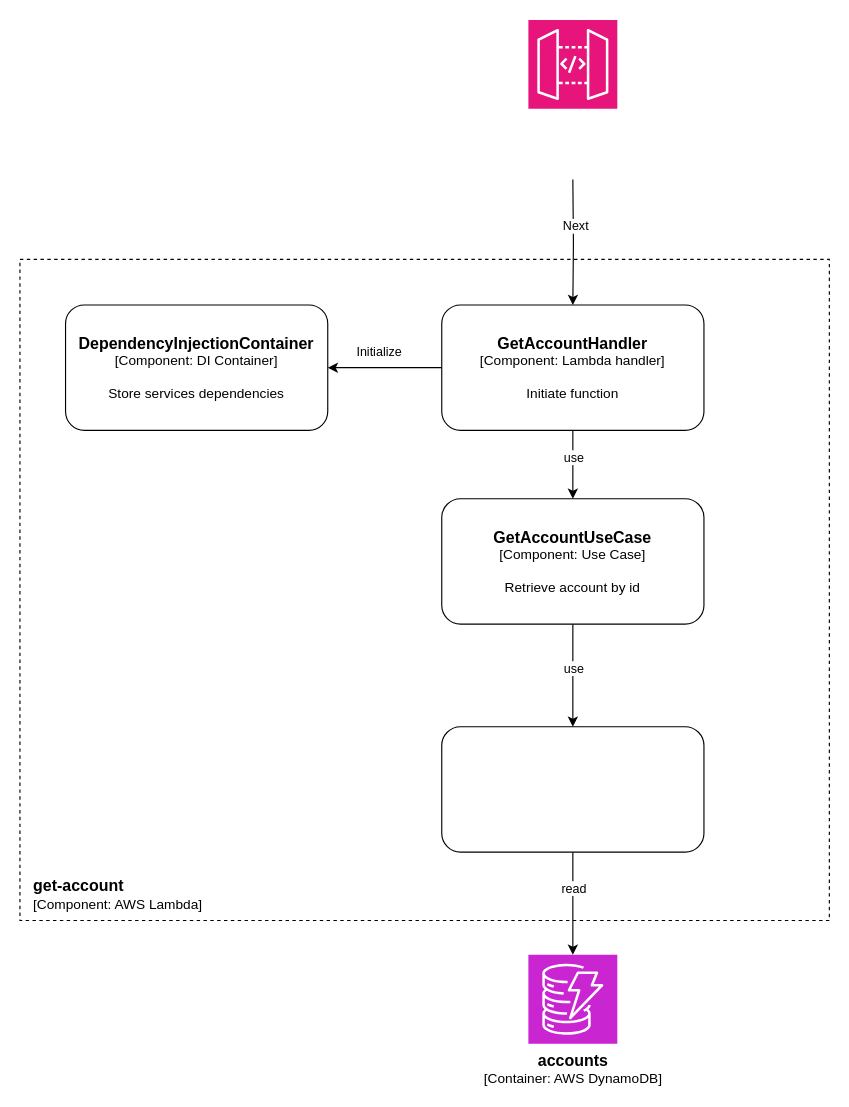
Some shapes in this 849 by 1107 pixel diagram are drawn without their labels. Here are the shapes that lost their labels. From the top down, the centre of each, then its label:
At point (572, 64): "GET /v1/accounts [Container: API Gateway]".
At point (572, 789): "AccountRepository [Component: Repository] Reads from persistence mechanism".
